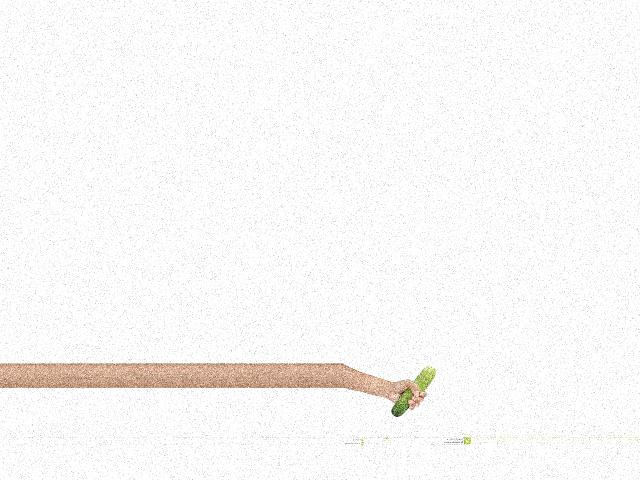cucumber: (389, 366, 435, 417)
